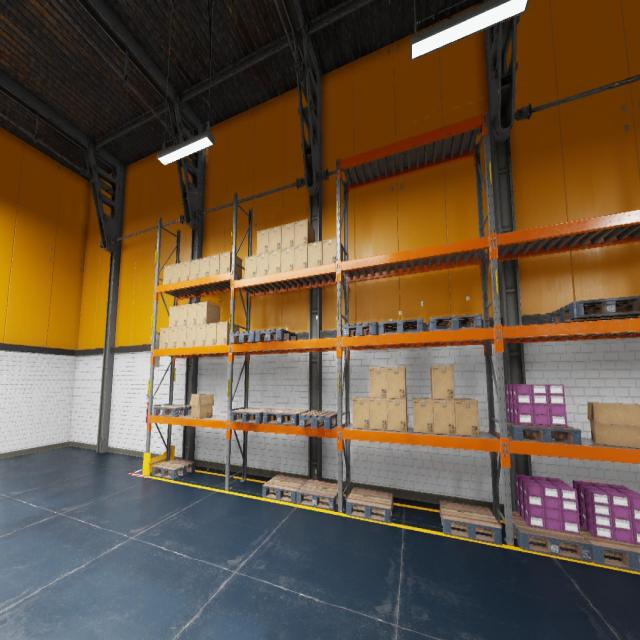box: (588, 402, 640, 448), (454, 398, 480, 437), (431, 398, 456, 435), (430, 366, 454, 400), (413, 398, 434, 433), (388, 397, 408, 431), (219, 251, 242, 278), (352, 396, 370, 429), (387, 367, 406, 398), (370, 398, 388, 430), (294, 219, 315, 246), (369, 367, 387, 398), (190, 394, 213, 418), (216, 321, 239, 345), (322, 238, 343, 264), (196, 302, 220, 324), (308, 241, 322, 267), (294, 243, 307, 270), (281, 222, 294, 249), (281, 246, 294, 272), (268, 249, 281, 274), (269, 225, 281, 252), (256, 229, 268, 254), (208, 253, 220, 276), (256, 253, 268, 276), (206, 322, 217, 346), (245, 254, 256, 278), (178, 304, 188, 327), (196, 324, 206, 346), (186, 324, 196, 346), (187, 303, 197, 325), (199, 256, 209, 277), (190, 258, 200, 279), (180, 260, 190, 281), (171, 262, 181, 282), (177, 326, 186, 347), (168, 327, 177, 348), (169, 306, 178, 327), (159, 328, 168, 348), (163, 264, 172, 284)
pallets: (504, 511, 592, 562), (580, 524, 640, 572), (439, 500, 502, 545), (550, 296, 640, 323), (506, 420, 582, 445), (346, 487, 393, 523), (296, 479, 338, 511), (262, 474, 308, 503), (427, 314, 482, 331), (152, 459, 195, 479), (378, 318, 423, 334), (264, 409, 308, 425), (299, 411, 337, 429), (230, 408, 275, 423), (255, 328, 297, 342), (343, 321, 378, 337), (153, 404, 191, 416), (230, 331, 263, 344)
